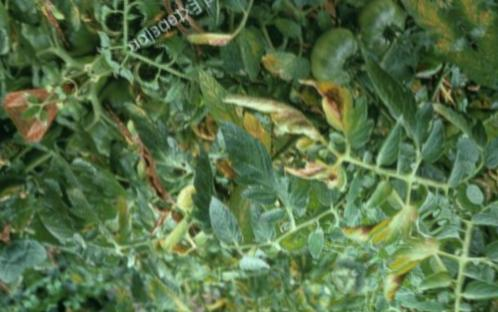Tomato Early blight leaf: (221, 63, 330, 179), (299, 61, 381, 158), (334, 189, 424, 268), (373, 0, 471, 64), (429, 85, 498, 165), (278, 141, 352, 212)
Tomato leaf: (352, 39, 440, 146), (210, 111, 294, 212), (198, 192, 248, 251)
